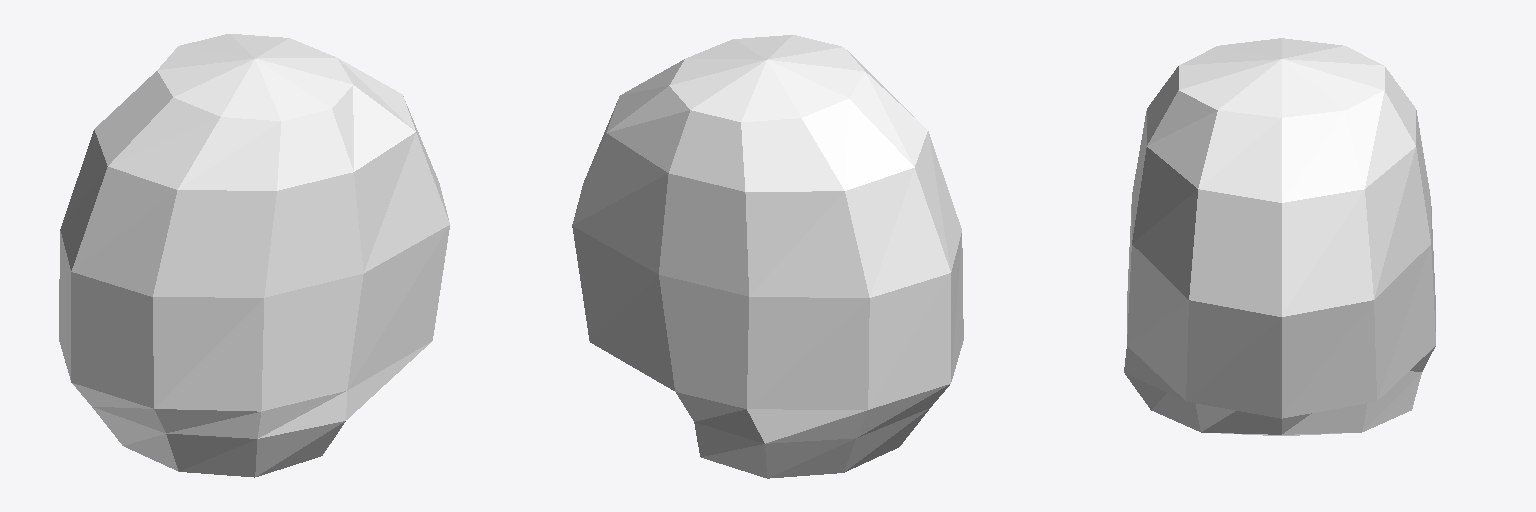
Rendered from brainV1.obj.
3 views of the same model, side by side, from view 1: azimuth 30°, elevation 25°; view 2: azimuth 150°, elevation 25°; view 3: azimuth 270°, elevation 25° (orthographic).
Visible parts, largest first — view 1: pSphere1; view 2: pSphere1; view 3: pSphere1.
Part boxes in pixels (left/top/right/bottom): pSphere1: left=59, top=34, right=449, bottom=477; pSphere1: left=572, top=35, right=963, bottom=478; pSphere1: left=1124, top=38, right=1435, bottom=435.
Bounding box in the file's own units: 16.69 × 17.07 × 12.27.